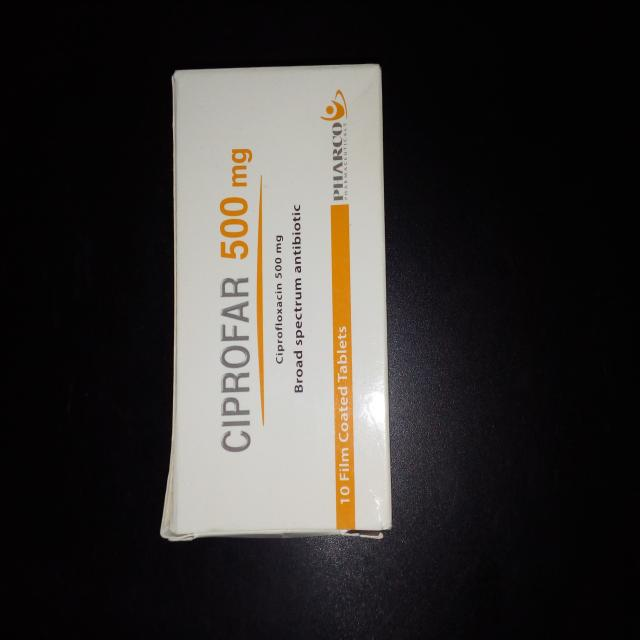Medicine: (160, 62, 396, 542)
